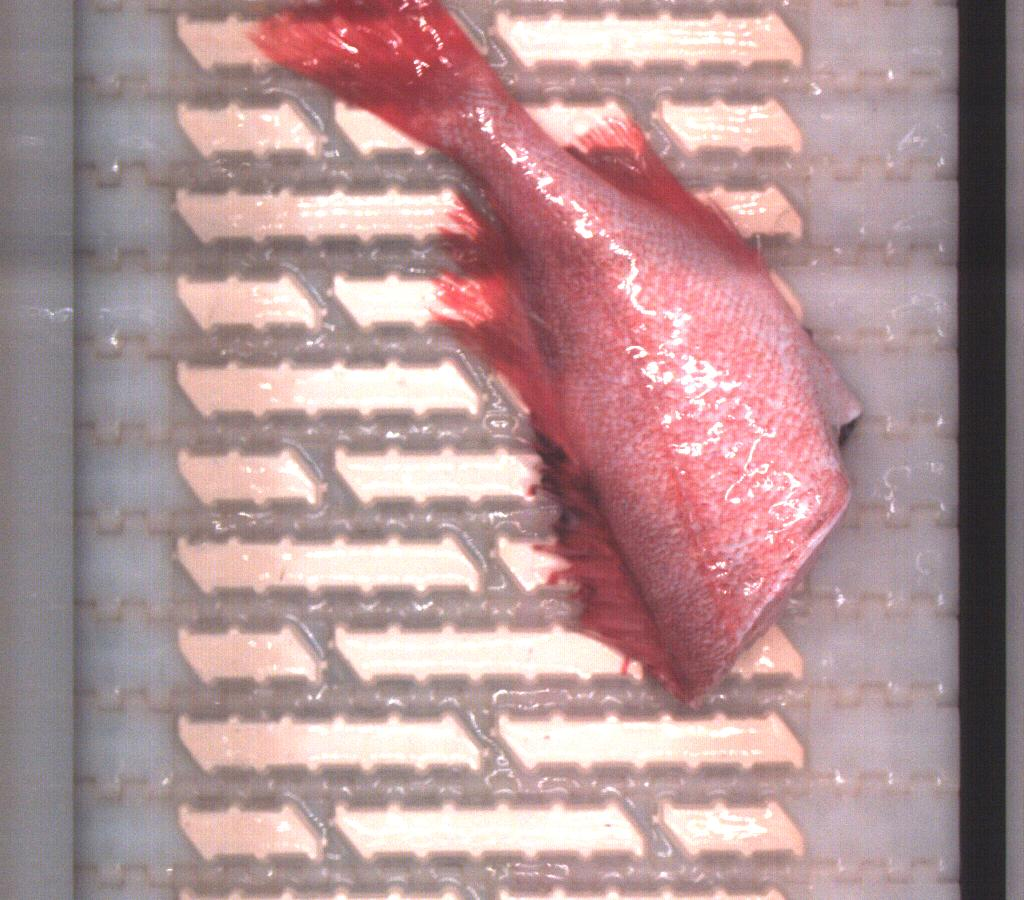Fish: (251, 1, 861, 704)
